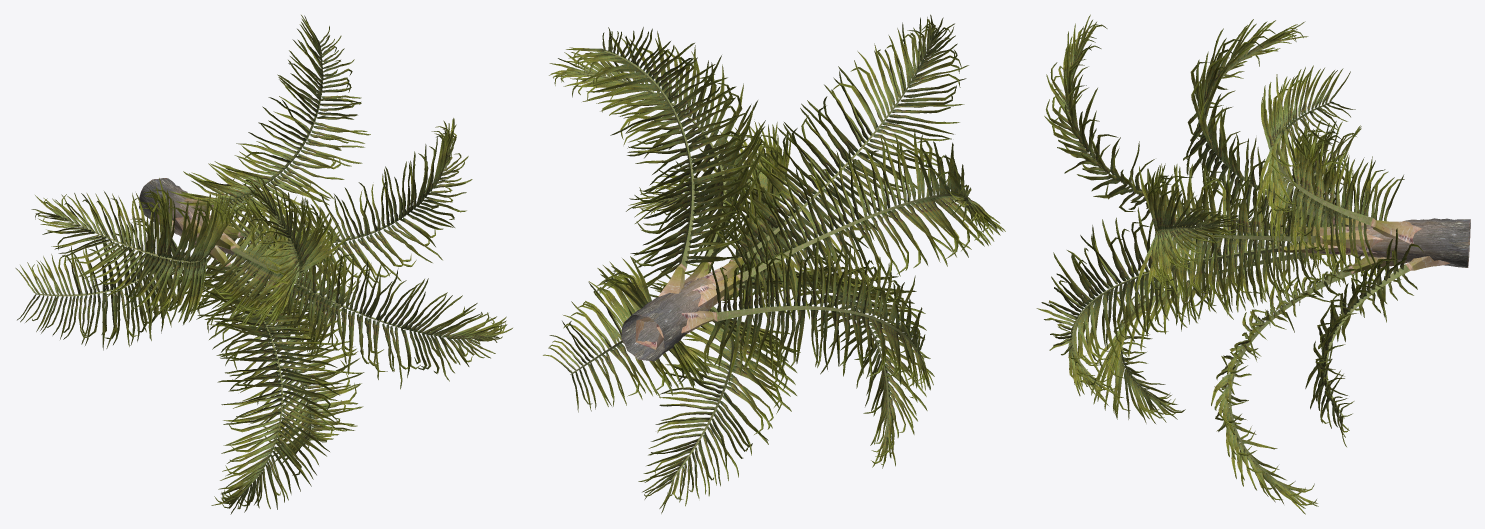
3 views of the same model, side by side, from view 1: azimuth 30°, elevation 25°; view 2: azimuth 150°, elevation 25°; view 3: azimuth 270°, elevation 25° (orthographic). The views are drawn at different scales.
Visible parts, largest first — view 1: TR19y; view 2: TR19y; view 3: TR19y.
Boxes of the visible parts, x1,y1,x2,y2 form: TR19y: (15, 15, 512, 514); TR19y: (543, 14, 1005, 513); TR19y: (1036, 14, 1470, 514).
Size of the model in its own units: 40.25 by 40.87 by 35.31.
4 materials, 4 textured.
